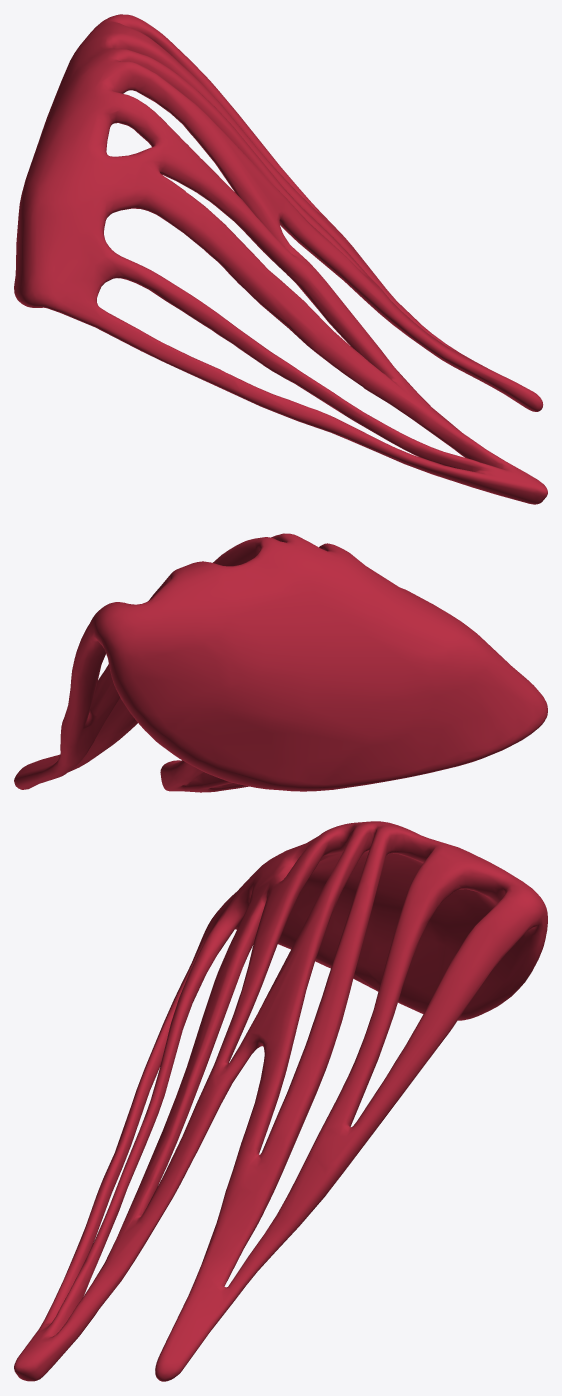
File: inferior-leaflet-of-right-atrioventricular-valve.glb
3 renders of one model, top to bottom at view 1: azimuth 30°, elevation 25°; view 2: azimuth 150°, elevation 25°; view 3: azimuth 270°, elevation 25°, orthographic. The views are drawn at different scales.
Visible parts, largest first — view 1: Inferior leaflet of right atrioventricular valve; view 2: Inferior leaflet of right atrioventricular valve; view 3: Inferior leaflet of right atrioventricular valve.
Boxes of the visible parts, bbox=[...] form: Inferior leaflet of right atrioventricular valve: bbox=[14, 14, 547, 504]; Inferior leaflet of right atrioventricular valve: bbox=[14, 533, 547, 792]; Inferior leaflet of right atrioventricular valve: bbox=[14, 821, 547, 1381].
Size of the model in its own units: 0.0366 by 0.0285 by 0.0326.
